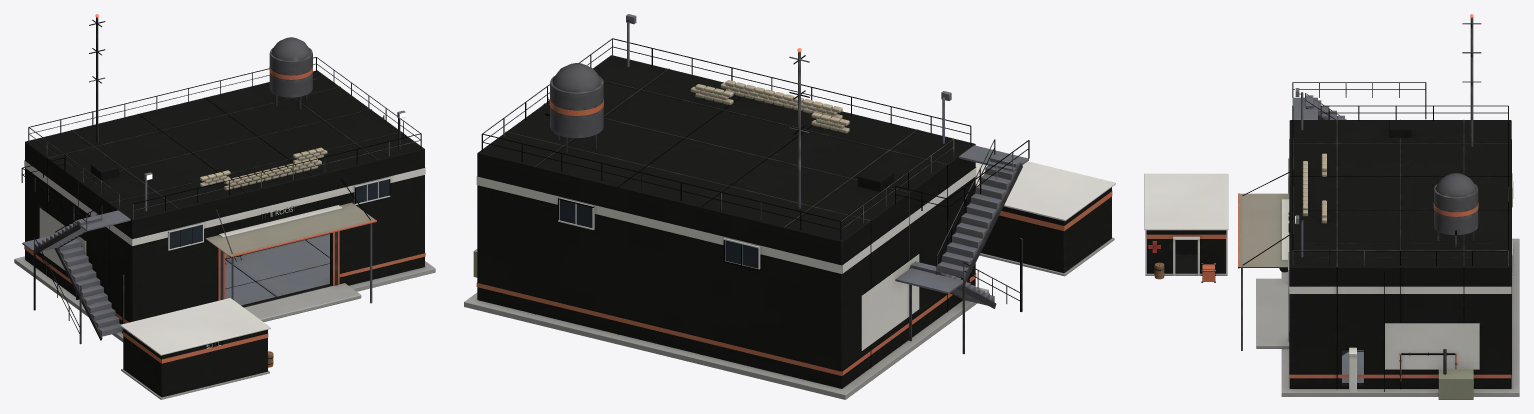
The model's file is roost.glb.
3 renders of one model, left to right at view 1: azimuth 30°, elevation 25°; view 2: azimuth 150°, elevation 25°; view 3: azimuth 270°, elevation 25°, orthographic. The views are drawn at different scales.
Visible parts, largest first — view 1: hull, glass; view 2: hull, glass; view 3: hull.
Boxes of the visible parts, x1=… form: hull: x1=14, y1=17, x2=435, y2=399; glass: x1=169, y1=179, x2=388, y2=248; hull: x1=464, y1=14, x2=1115, y2=399; glass: x1=559, y1=200, x2=758, y2=268; hull: x1=1144, y1=17, x2=1519, y2=399.
Bounding box in the file's own units: 26.96 × 18.02 × 23.65.
24 materials, 19 textured.
